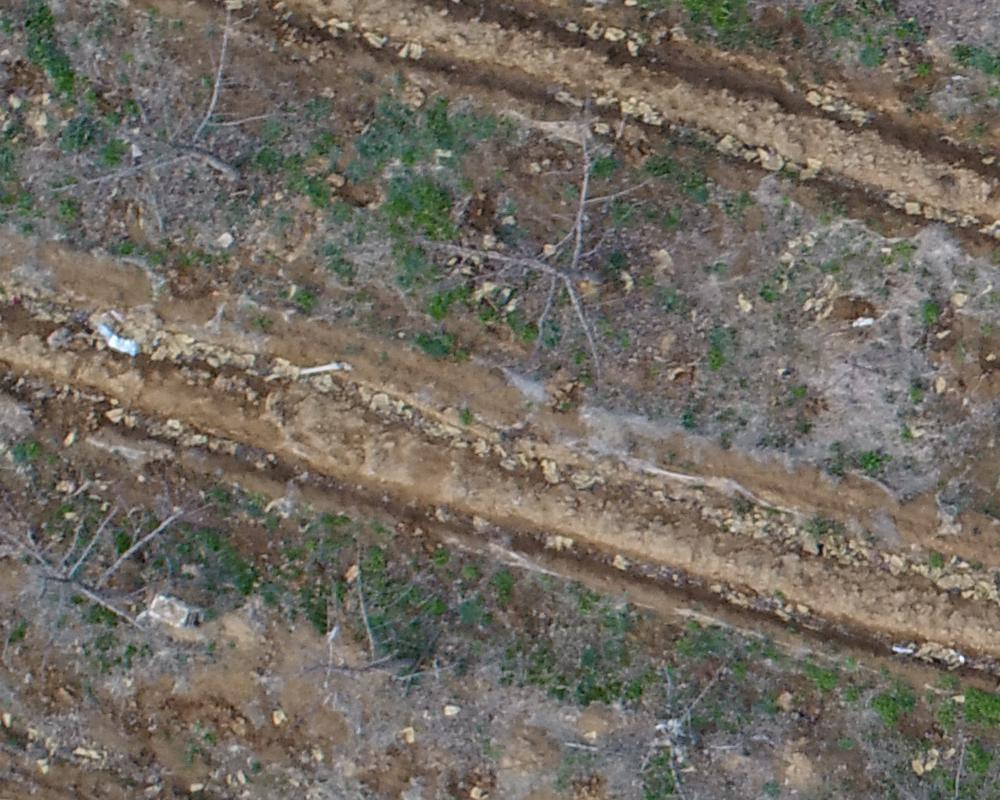apple: (419, 94, 647, 385), (21, 11, 269, 227), (10, 461, 197, 656), (284, 556, 470, 739), (580, 656, 763, 790)
